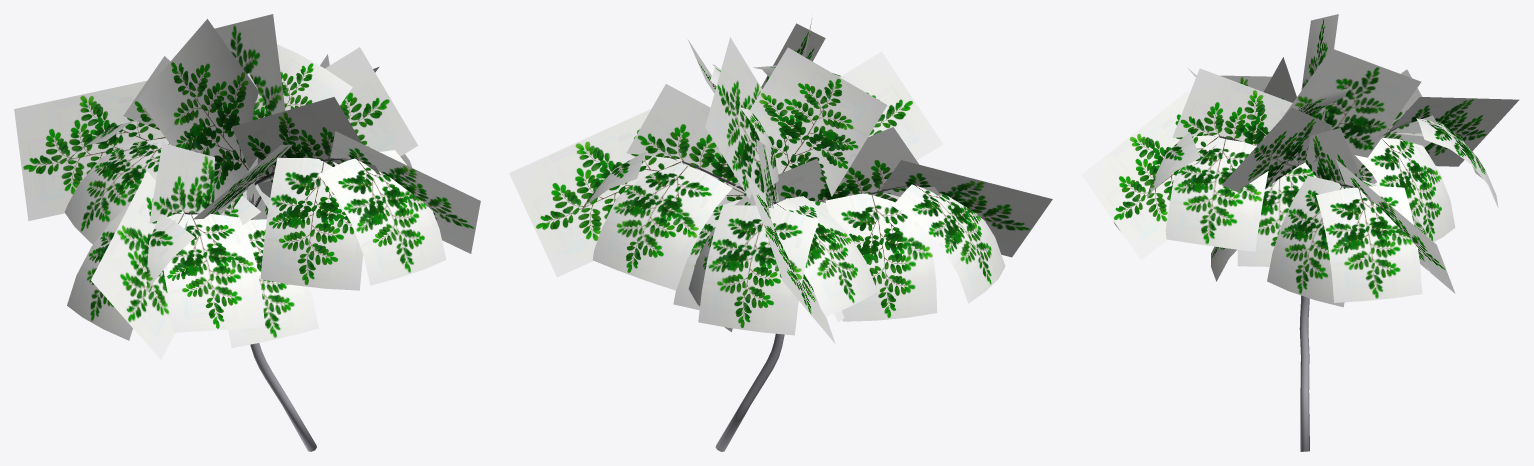
Rendered from ArvoreLowPoly1.fbx.
The picture shows the model from 3 angles, left to right: view 1: azimuth 30°, elevation 25°; view 2: azimuth 150°, elevation 25°; view 3: azimuth 270°, elevation 25°; orthographic projection. The views are drawn at different scales.
Visible parts, largest first — view 1: Folhas, Tronco; view 2: Folhas, Tronco; view 3: Folhas, Tronco.
Boxes of the visible parts, bbox=[...] form: Folhas: bbox=[14, 14, 480, 359]; Tronco: bbox=[155, 126, 351, 451]; Folhas: bbox=[509, 18, 1052, 343]; Tronco: bbox=[663, 155, 907, 451]; Folhas: bbox=[1081, 14, 1519, 307]; Tronco: bbox=[1204, 121, 1410, 451].
Bounding box in the file's own units: 3.55 × 3.56 × 3.53.
